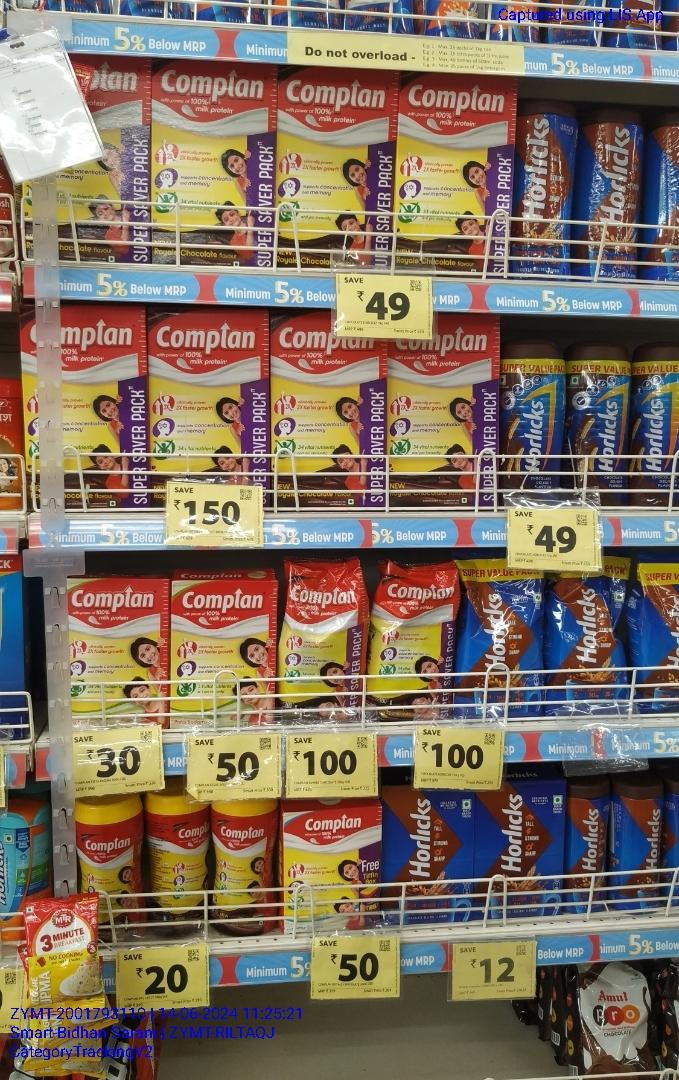HORLICK_CHOCOLATE_1_KG_JAR: (575, 116, 647, 280), (511, 104, 581, 272)
HORLICK_CHOCOLATE_500_G_JAR: (567, 351, 635, 492), (501, 346, 562, 501), (640, 349, 679, 489), (567, 785, 608, 918), (612, 788, 662, 897)
